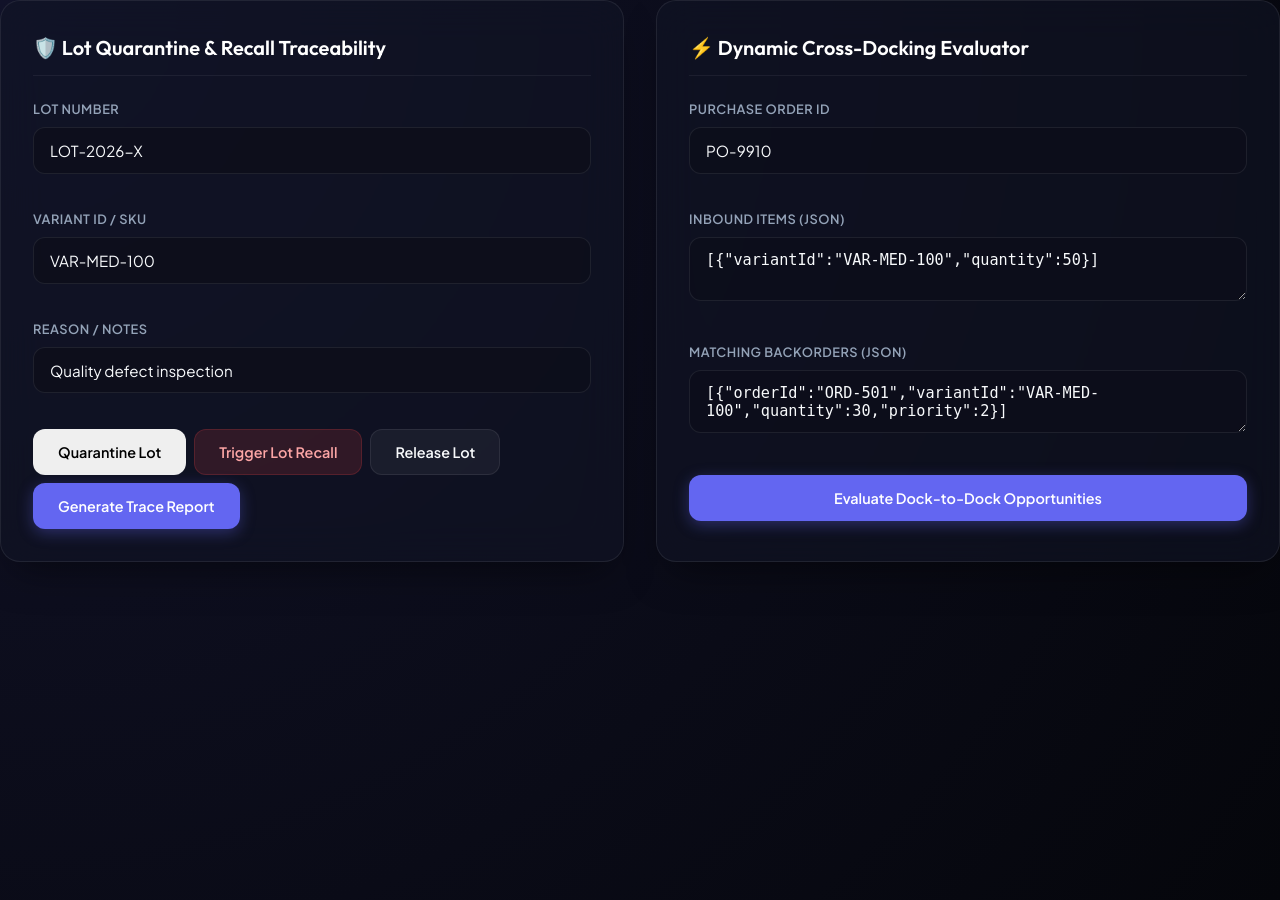
it: LotManagementPanel › handles quarantine action successfully
Click the button "Quarantine Lot" at (110,452), box [33,429,186,475]
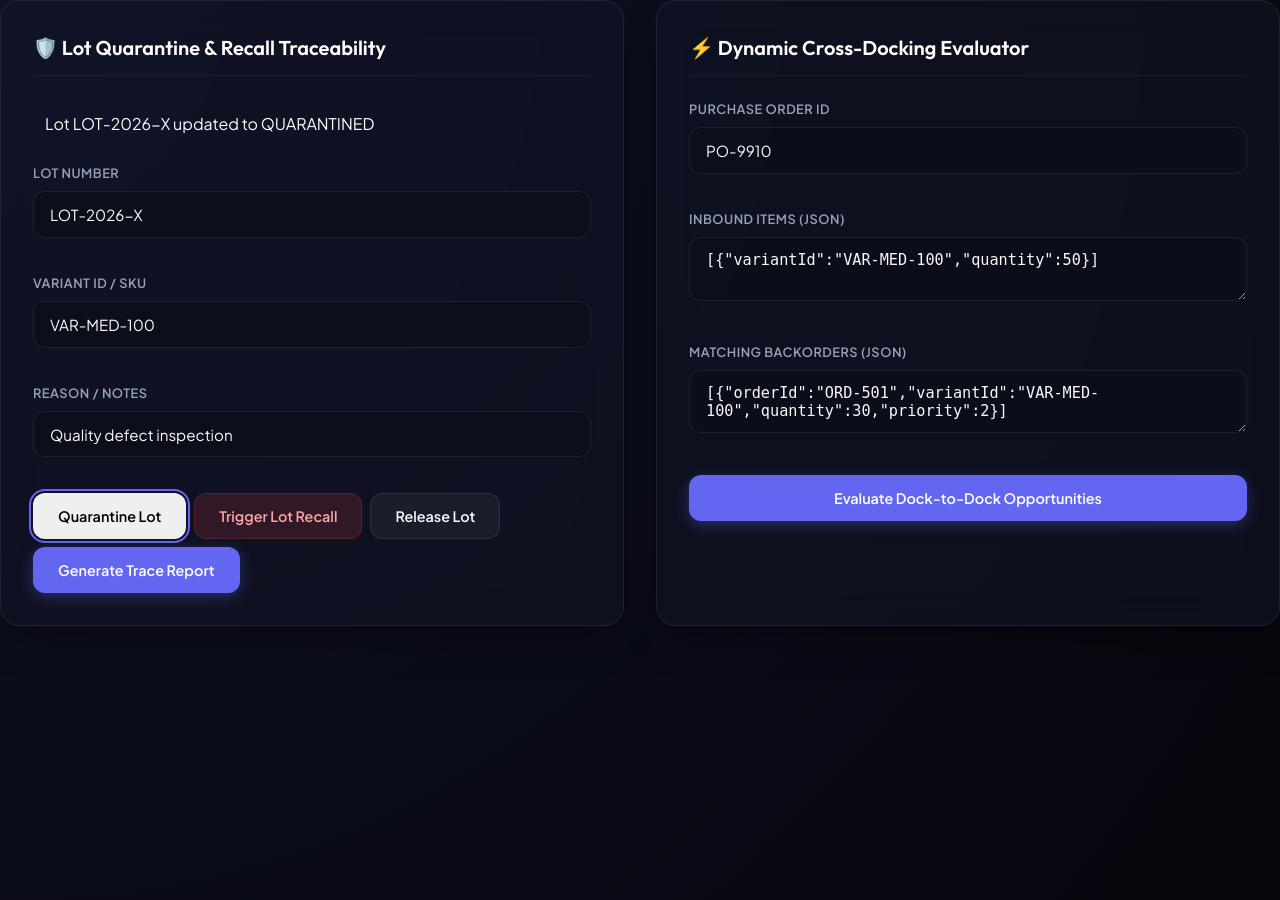
Check: the text "Lot LOT-2026-X updated to QUARANTINED" is shown, box [45,113,374,134]
